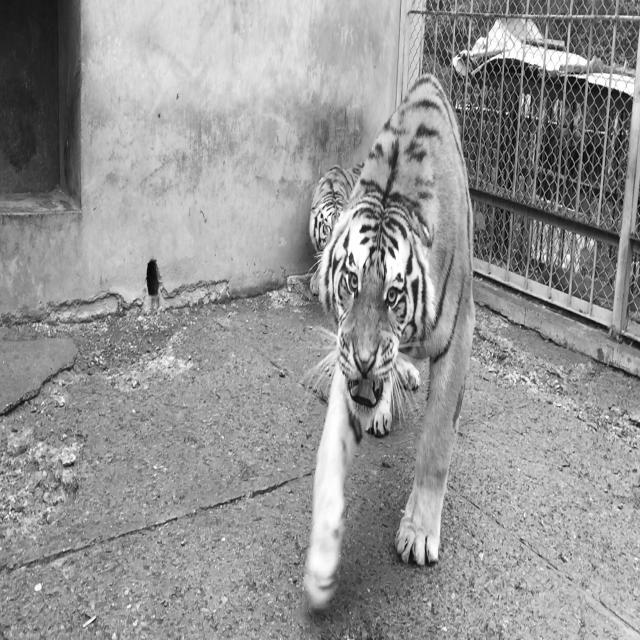Tiger: (302, 72, 476, 612)
